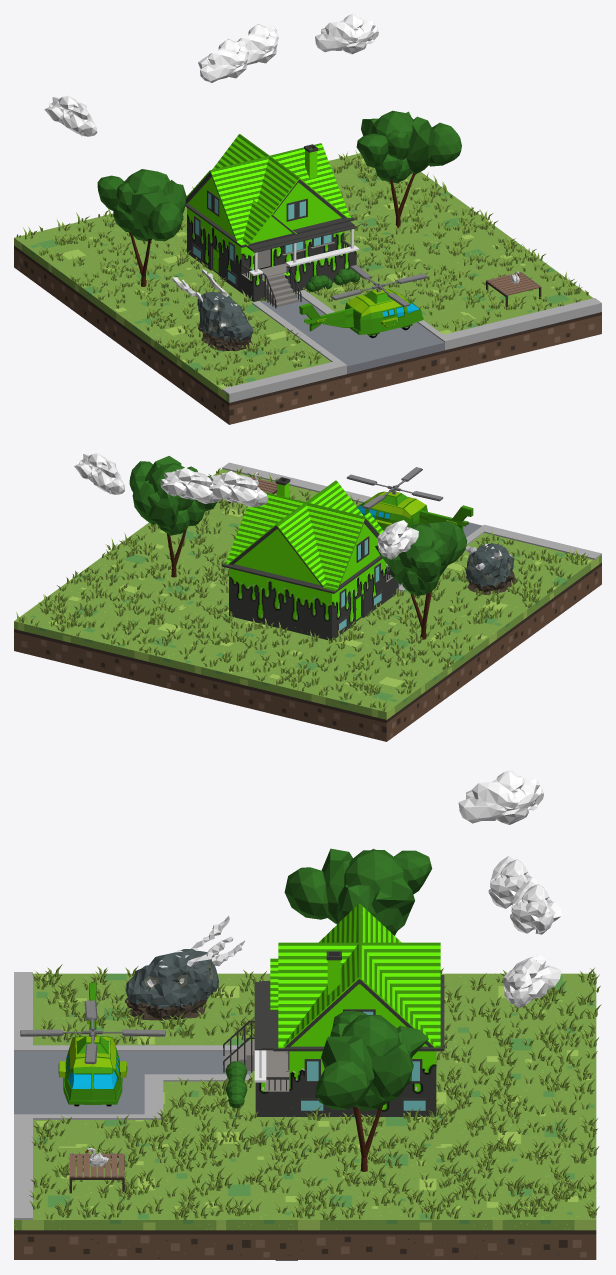
3 renders of one model, top to bottom at view 1: azimuth 30°, elevation 25°; view 2: azimuth 150°, elevation 25°; view 3: azimuth 270°, elevation 25°, orthographic. The views are drawn at different scales.
Visible parts, largest first — view 1: Cube.006, Cube.754, Circle.012_Grass_0.192, Cube.007, tree, tree.001, VEHICLES_HELICOPTER, OBJRANDOM_METEORITE, Cube.009; view 2: Cube.006, Cube.754, Circle.012_Grass_0.192, Cube.007, tree.001, tree, VEHICLES_HELICOPTER, OBJRANDOM_METEORITE; view 3: Cube.006, Circle.012_Grass_0.192, Cube.754, tree, Cube.007, tree.001, OBJRANDOM_METEORITE, VEHICLES_HELICOPTER, Cube.009.
Part boxes in pixels (box(x1,y1,x2,y2)): Cube.006: box(14, 153, 601, 424); Cube.754: box(185, 134, 359, 308); Circle.012_Grass_0.192: box(16, 150, 588, 386); Cube.007: box(44, 14, 378, 136); tree: box(356, 110, 461, 228); tree.001: box(97, 169, 186, 286); VEHICLES_HELICOPTER: box(299, 265, 427, 338); OBJRANDOM_METEORITE: box(172, 269, 252, 351); Cube.009: box(486, 272, 541, 306); Cube.006: box(14, 462, 601, 741); Cube.754: box(221, 477, 398, 640); Circle.012_Grass_0.192: box(16, 468, 588, 711); Cube.007: box(74, 453, 418, 559); tree.001: box(375, 521, 467, 639); tree: box(129, 456, 216, 577); VEHICLES_HELICOPTER: box(346, 467, 473, 530); OBJRANDOM_METEORITE: box(465, 543, 516, 594); Cube.006: box(14, 972, 596, 1259); Circle.012_Grass_0.192: box(29, 964, 601, 1221); Cube.754: box(223, 904, 444, 1116); tree: box(315, 1010, 428, 1171); Cube.007: box(458, 770, 561, 1007); tree.001: box(284, 848, 432, 935); OBJRANDOM_METEORITE: box(125, 916, 244, 1020); VEHICLES_HELICOPTER: box(20, 982, 165, 1106); Cube.009: box(69, 1153, 124, 1193).
Size of the model in its own units: 4071 by 2184 by 4040.
Materials: 34 (4 with a texture image).
